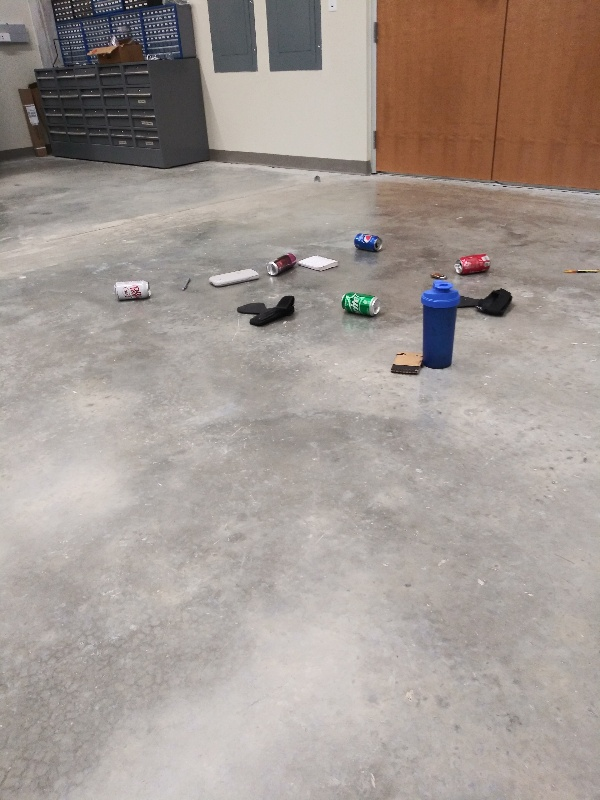can: (339, 289, 384, 319), (452, 249, 495, 275), (265, 249, 300, 278), (111, 278, 153, 301), (351, 230, 383, 252)
